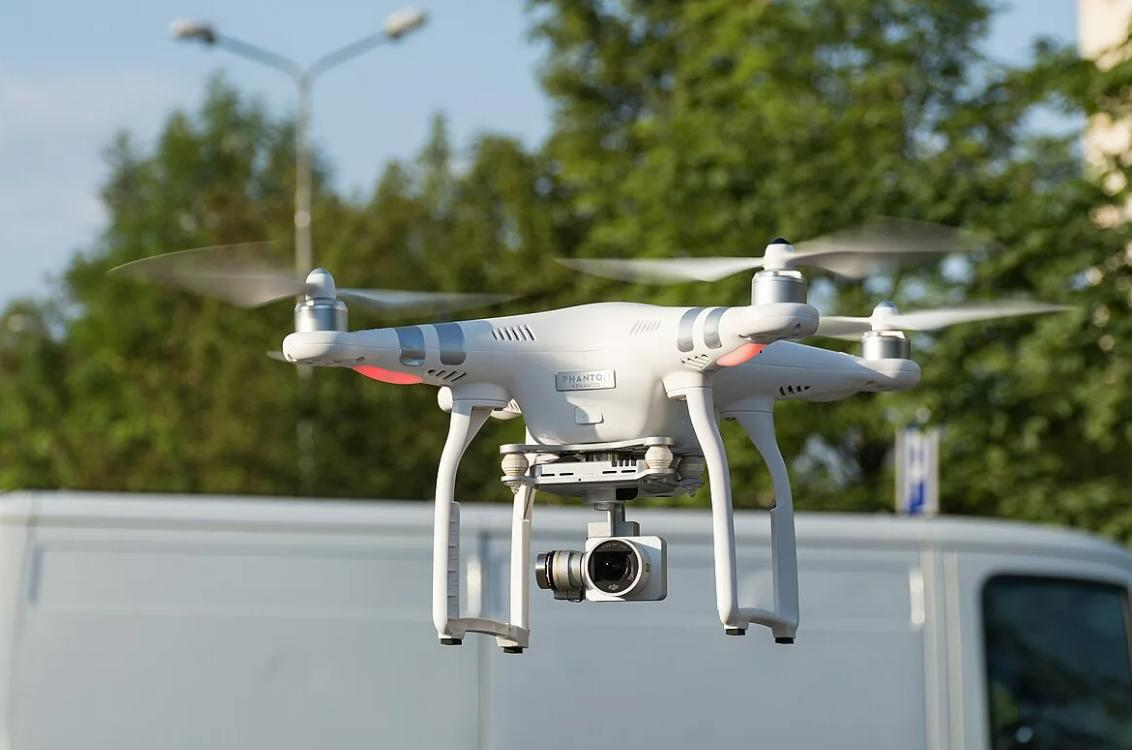Drone: (114, 225, 1068, 652)
